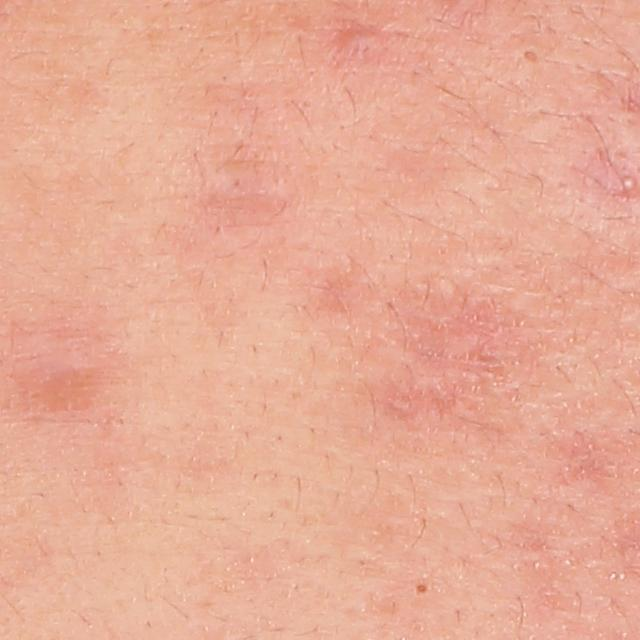papule: (328, 23, 395, 67)
